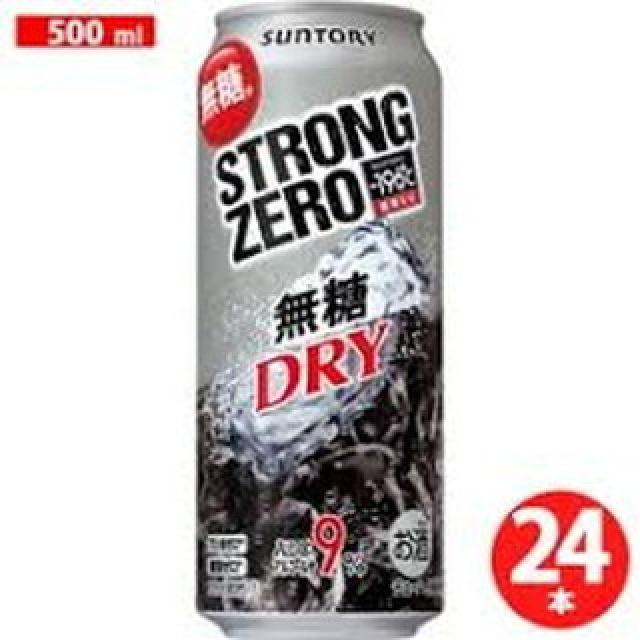can: (191, 10, 449, 640)
